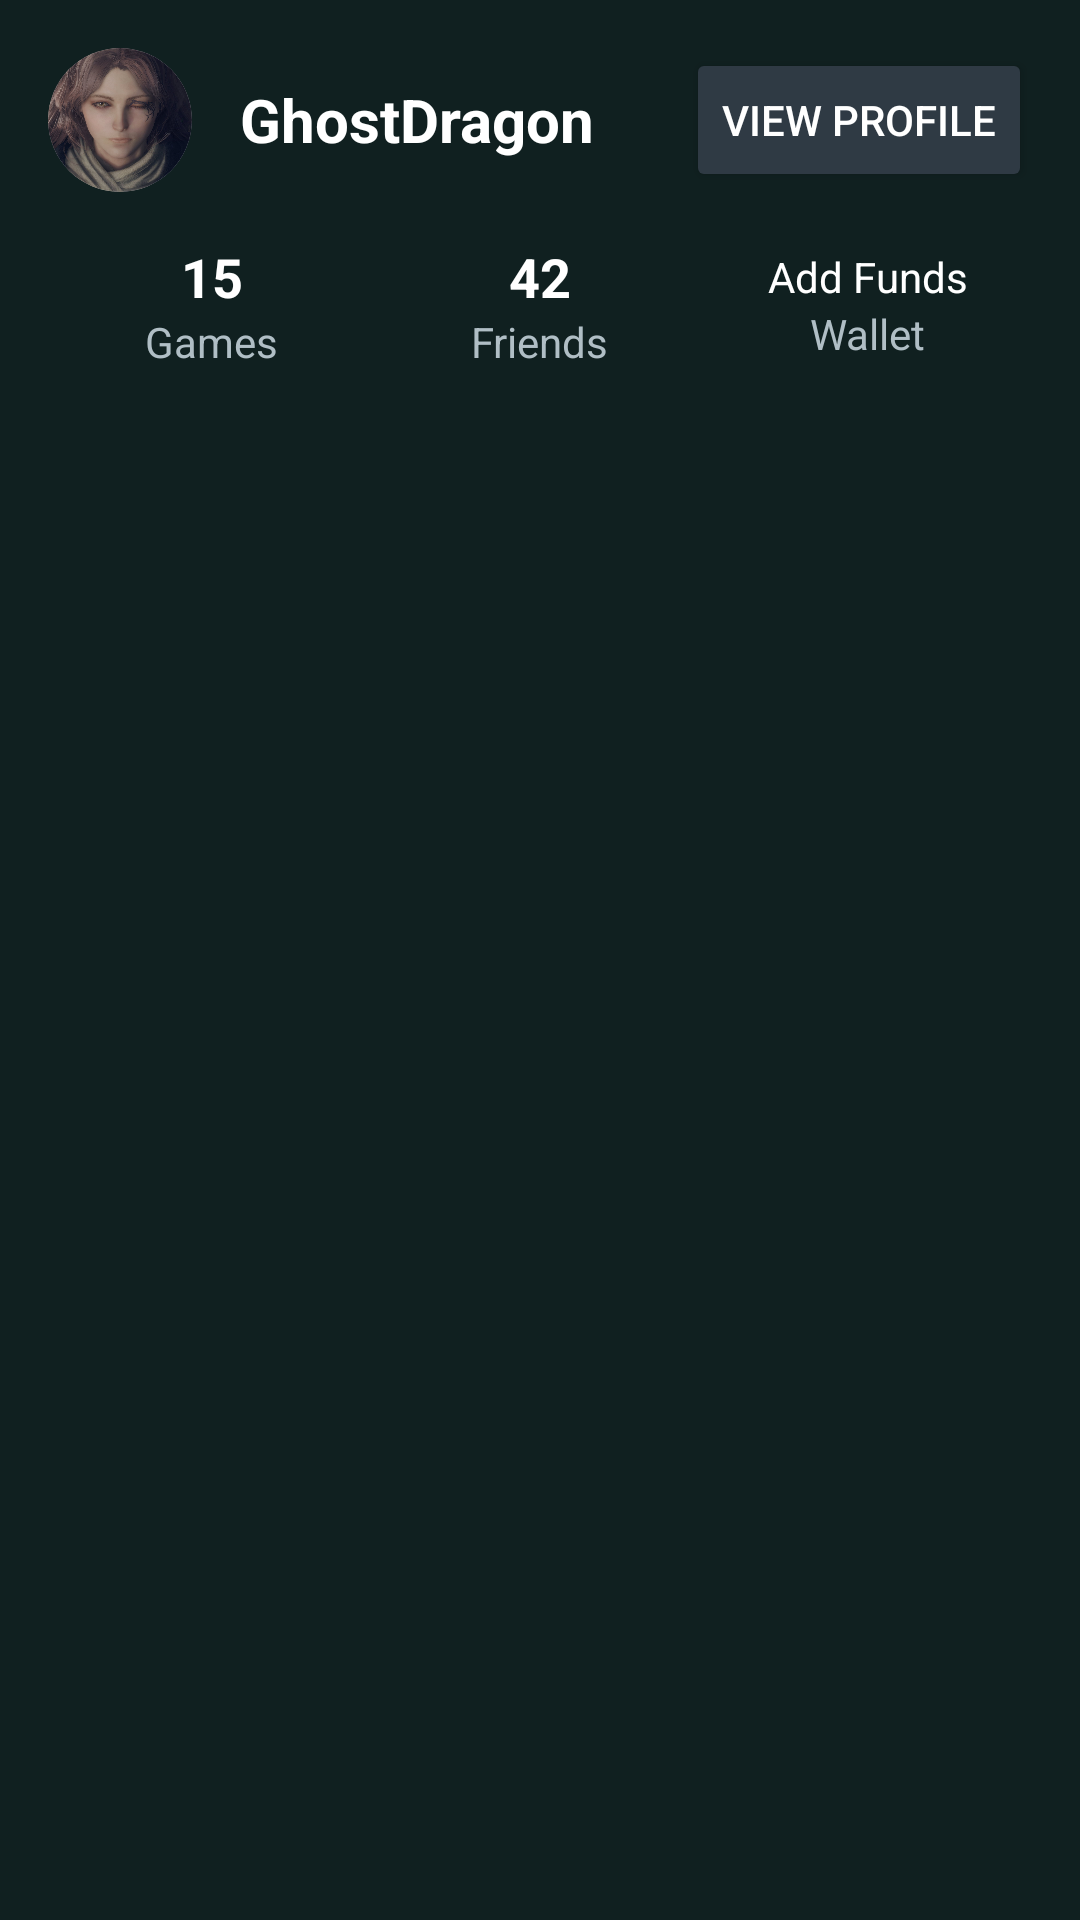

Screen size 1080px x 1920px. Icon name, then its box in pixels as (x1, y1, x2, y2):
avatar: (48, 48, 192, 192)
